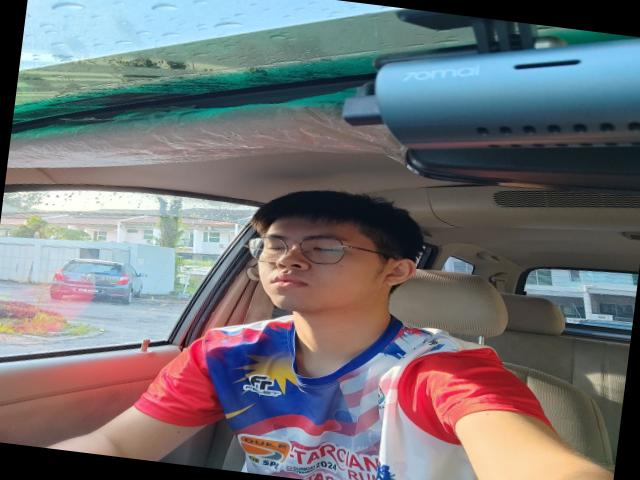eye_closed: (304, 241, 344, 260), (264, 241, 286, 256)
face: (240, 210, 364, 320)
